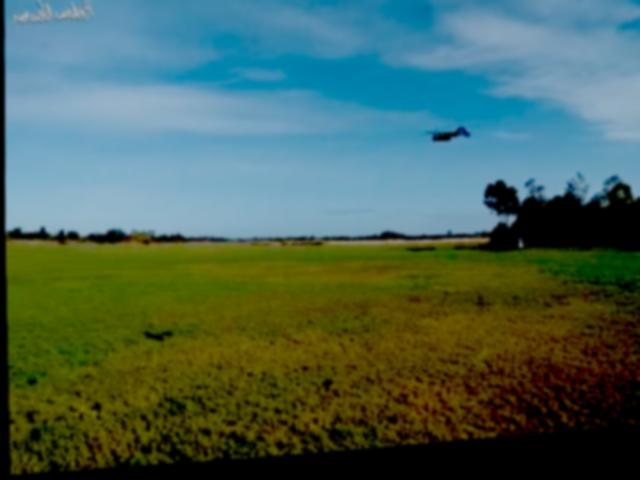uav: (420, 127, 473, 158)
